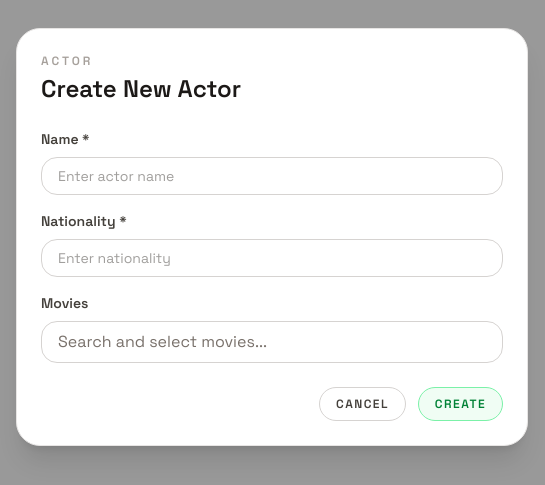
Test case: ActorFormModal › validates nationality minimum length
The image size is (545, 485).
Type "Actor Name" into the field with placeholder "Enter actor name".
click(272, 176); type("Actor Name")  # box [41,157,503,195]
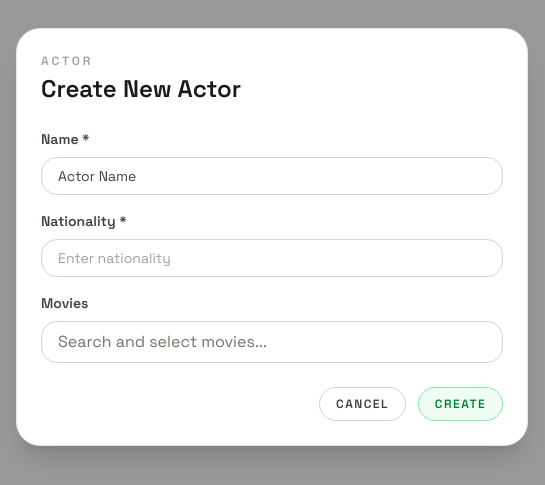
Type "U" into the field with placeholder "Enter nationality".
click(272, 258); type("U")  # box [41,239,503,277]
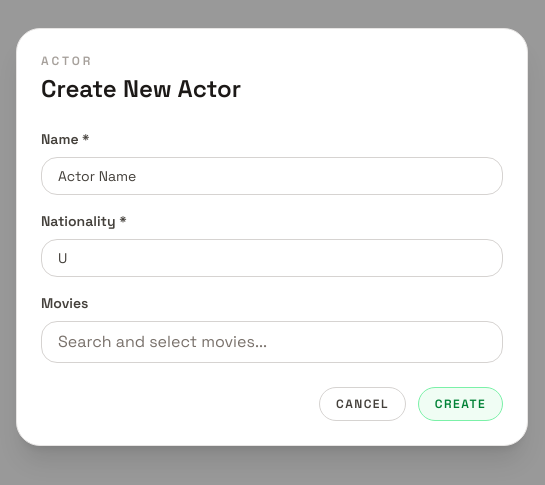
Click the button "Create".
click(460, 404)  # box [418,387,503,421]
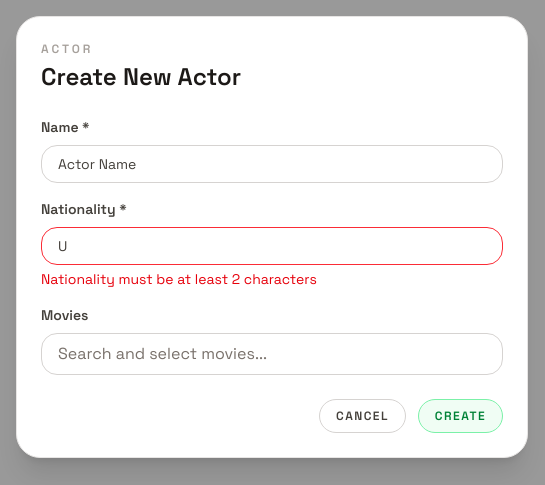
Now the text "Nationality must be at least 2 characters" is shown, box [41,270,317,288]
